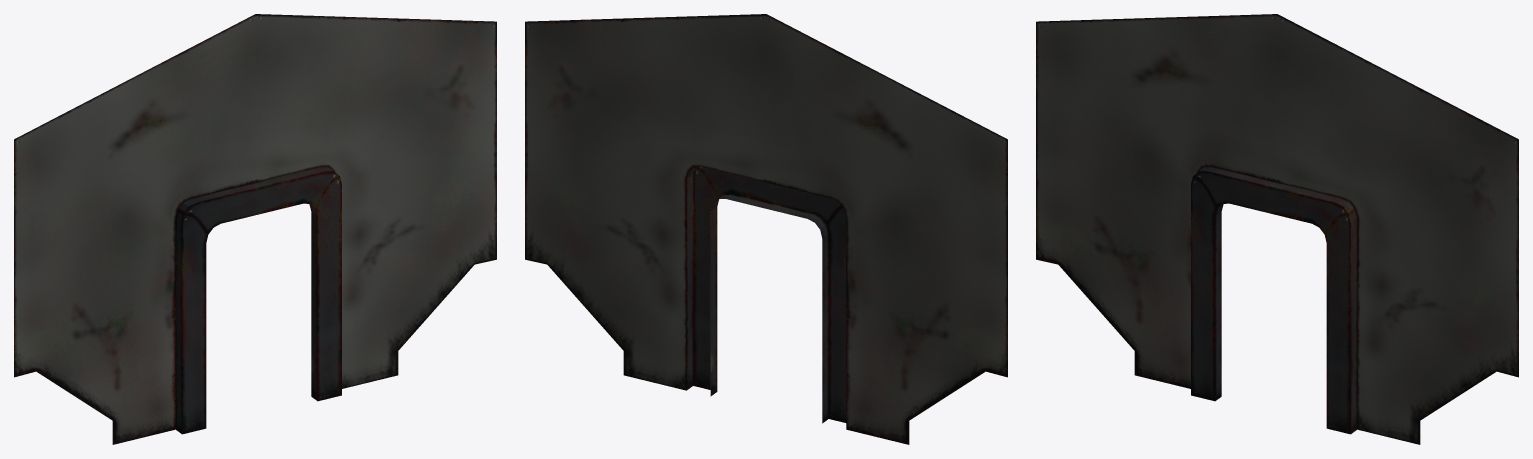
File: StraightTunnel entrance 2.fbx
3 renders of one model, left to right at view 1: azimuth 30°, elevation 25°; view 2: azimuth 150°, elevation 25°; view 3: azimuth 330°, elevation 25°, orthographic.
Visible parts, largest first — view 1: entrance 2; view 2: entrance 2; view 3: entrance 2.
Part boxes in pixels (x1,y1,x2,y2): entrance 2: (14,14,496,444); entrance 2: (525,14,1007,444); entrance 2: (1036,14,1518,444).
Size of the model in its own units: 23.58 by 1000 by 784.
